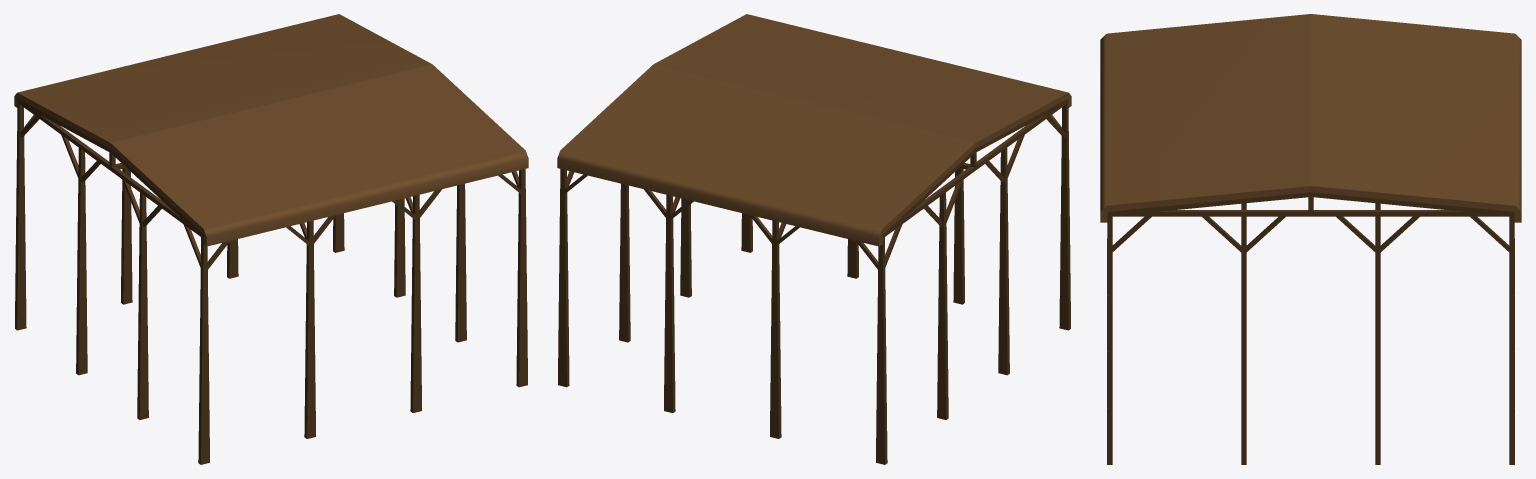
The model's file is Pergolas and open houses(2).glb.
3 views of the same model, side by side, from view 1: azimuth 30°, elevation 25°; view 2: azimuth 150°, elevation 25°; view 3: azimuth 270°, elevation 25° (orthographic). The views are drawn at different scales.
Parts seen in each view (by area): view 1: Root; view 2: Root; view 3: Root.
Boxes of the visible parts, box(x1,y1,x2,y2) form: Root: box(14, 14, 528, 464); Root: box(557, 14, 1071, 464); Root: box(1100, 14, 1521, 464).
Bounding box in the file's own units: 5.26 × 3.89 × 5.35.
